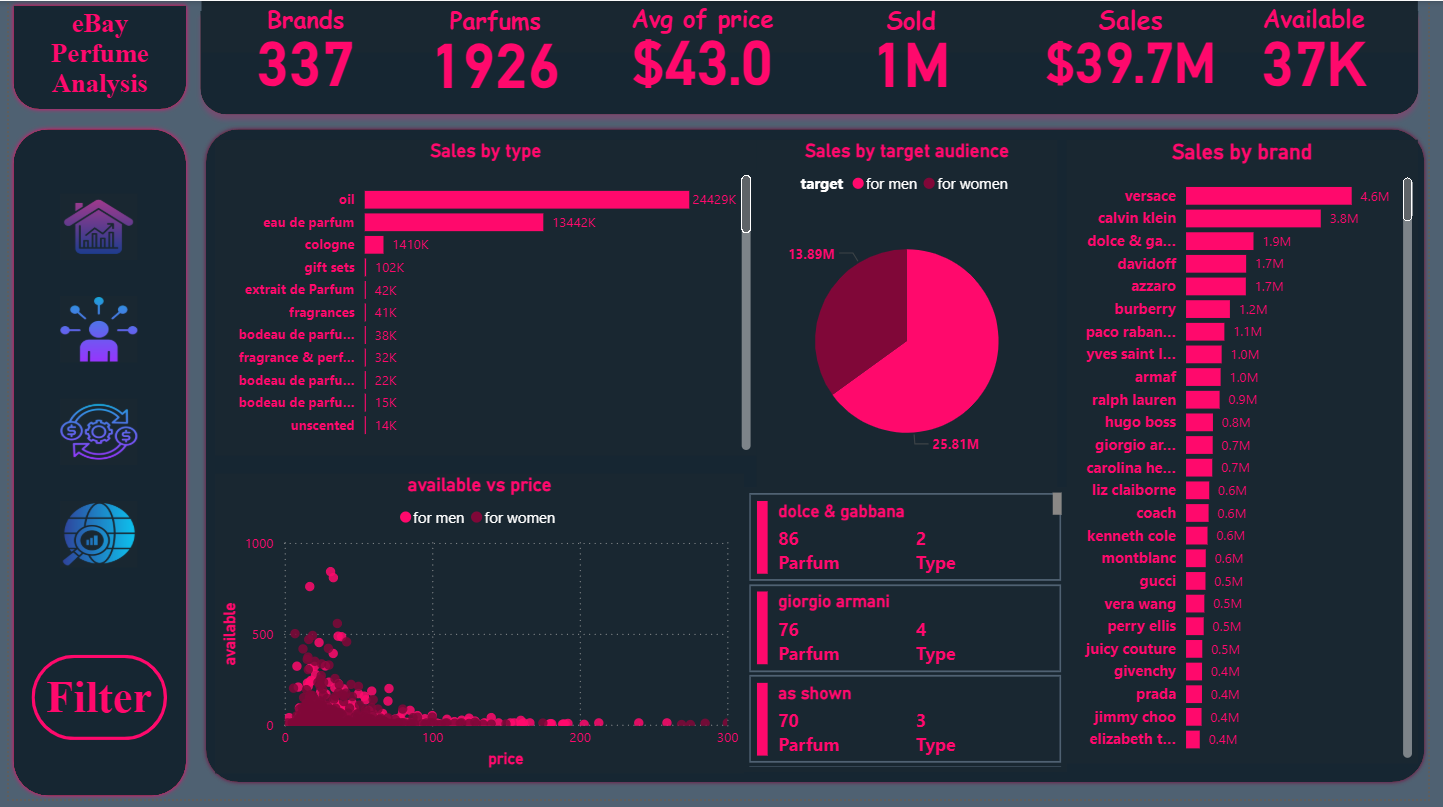

The dashboard page shown, as its layout file describes it:
{"tool":"powerbi","page":{"name":"Market Analysis","canvas":[1280,720],"ordinal":0},"visuals":[{"type":"shape","box":[0,111.3,163.9,609],"z":0},{"type":"actionButton","box":[46.5,173.6,69.7,59.9],"z":0,"group":"g1"},{"type":"shape","box":[163.9,0,1116.4,111.3],"z":1000},{"type":"actionButton","box":[46.5,266.1,69.7,59.9],"z":1000,"group":"g1"},{"type":"shape","box":[173.6,111.3,1106.7,596.7],"z":2000},{"type":"actionButton","box":[46.5,451.2,69.7,59.9],"z":2000,"group":"g1"},{"type":"shape","box":[173.6,0,1096.9,46.5],"z":3000},{"type":"actionButton","box":[46.5,358.7,69.7,59.9],"z":3000,"group":"g1"},{"type":"card","title":"Brands","fields":{"Values":["perfum_cleaned.num of brand"]},"box":[198.1,1.2,138.2,89.3],"z":4000},{"type":"card","title":"Parfums","fields":{"Values":["perfum_cleaned.num of perfum"]},"box":[358.5,2.4,160.2,90.5],"z":5000},{"type":"card","title":"Avg of price","fields":{"Values":["perfum_cleaned.Avg price"]},"box":[541,0,168.8,90.5],"z":6000},{"type":"card","title":"Sold","fields":{"Values":["perfum_cleaned.Total Sold"]},"box":[732,2.4,163.9,89.3],"z":7000},{"type":"card","title":"Sales","fields":{"Values":["perfum_cleaned.total sales"]},"box":[918.3,0,185.9,90.5],"z":8000},{"type":"card","title":"Available","fields":{"Values":["perfum_cleaned.total avaliable"]},"box":[1104.2,0,144.3,91.7],"z":9000},{"type":"clusteredBarChart","title":"Sales by brand","fields":{"Category":["perfum_cleaned.brand"],"Y":["Sum(perfum_cleaned.Sales)"]},"box":[953.8,124.7,316.7,562.5],"z":10000},{"type":"pieChart","title":"Sales by target audience","fields":{"Y":["Sum(perfum_cleaned.Sales)"],"Category":["perfum_cleaned.target_audience"]},"box":[673.8,124.7,271.5,314.3],"z":11000},{"type":"clusteredBarChart","title":" Sales by type","fields":{"Category":["perfum_cleaned.type"],"Y":["Sum(perfum_cleaned.Sales)"]},"box":[185.9,124.7,487.9,284.9],"z":12000},{"type":"scatterChart","title":"available vs price","fields":{"Series":["perfum_cleaned.target_audience"],"X":["perfum_cleaned.price"],"Y":["Sum(perfum_cleaned.available)"]},"box":[185.9,425.5,476.9,270.2],"z":13000},{"type":"multiRowCard","fields":{"Values":["perfum_cleaned.title","perfum_cleaned.type","perfum_cleaned.brand"]},"box":[662.8,439,291,256.8],"z":14000},{"type":"group","id":"g1","title":"Group 1","box":[46.5,173.6,69.7,337.5],"z":15000},{"type":"shape","title":"eBay Perfume Market Analysis","box":[0,0,163.9,101.5],"z":16000},{"type":"actionButton","title":"filter","box":[20.8,589.4,122.3,77],"z":17000}]}

Visuals, with their boxes in screenshot pixels (x1, y1, x2, y2), scaled from the page's 1280x720 canvas onto the 1443x807 screenshot:
shape: box(0, 125, 185, 806)
actionButton: box(52, 195, 131, 262)
shape: box(185, 0, 1442, 125)
actionButton: box(52, 298, 131, 365)
shape: box(196, 125, 1442, 794)
actionButton: box(52, 506, 131, 573)
shape: box(196, 0, 1432, 52)
actionButton: box(52, 402, 131, 469)
"Brands" card: box(223, 1, 379, 101)
"Parfums" card: box(404, 3, 585, 104)
"Avg of price" card: box(610, 0, 800, 101)
"Sold" card: box(825, 3, 1010, 103)
"Sales" card: box(1035, 0, 1245, 101)
"Available" card: box(1245, 0, 1407, 103)
"Sales by brand" clusteredBarChart: box(1075, 140, 1432, 770)
"Sales by target audience" pieChart: box(760, 140, 1066, 492)
" Sales by type" clusteredBarChart: box(210, 140, 760, 459)
"available vs price" scatterChart: box(210, 477, 747, 780)
multiRowCard - perfum_cleaned.title x perfum_cleaned.type: box(747, 492, 1075, 780)
"Group 1" group: box(52, 195, 131, 573)
"eBay Perfume Market Analysis" shape: box(0, 0, 185, 114)
"filter" actionButton: box(23, 661, 161, 747)
